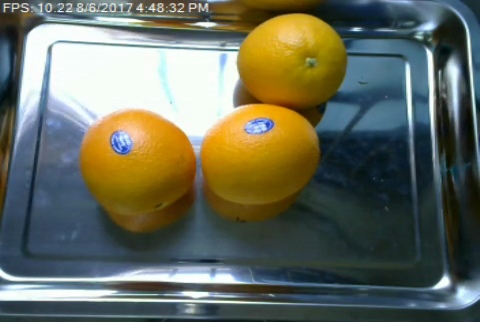Orange: (79, 108, 196, 216), (200, 104, 319, 205), (237, 11, 349, 108)
